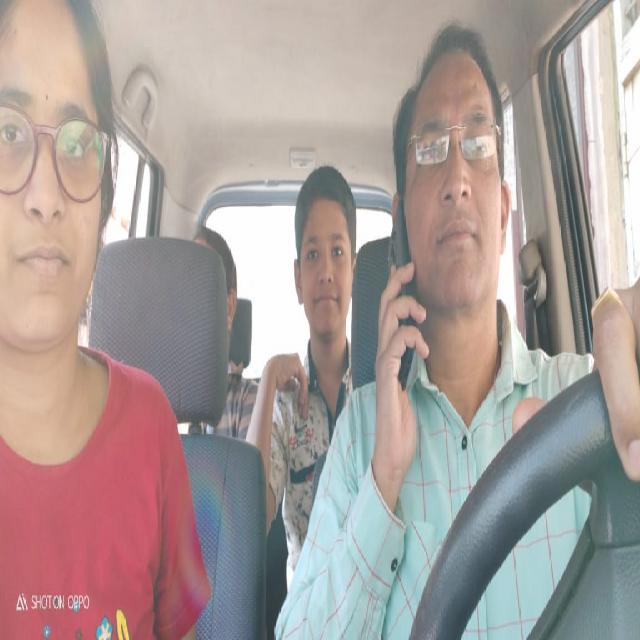mobile: (381, 194, 424, 395)
person: (0, 0, 120, 375), (402, 22, 513, 319), (290, 160, 362, 340), (194, 230, 242, 354)
